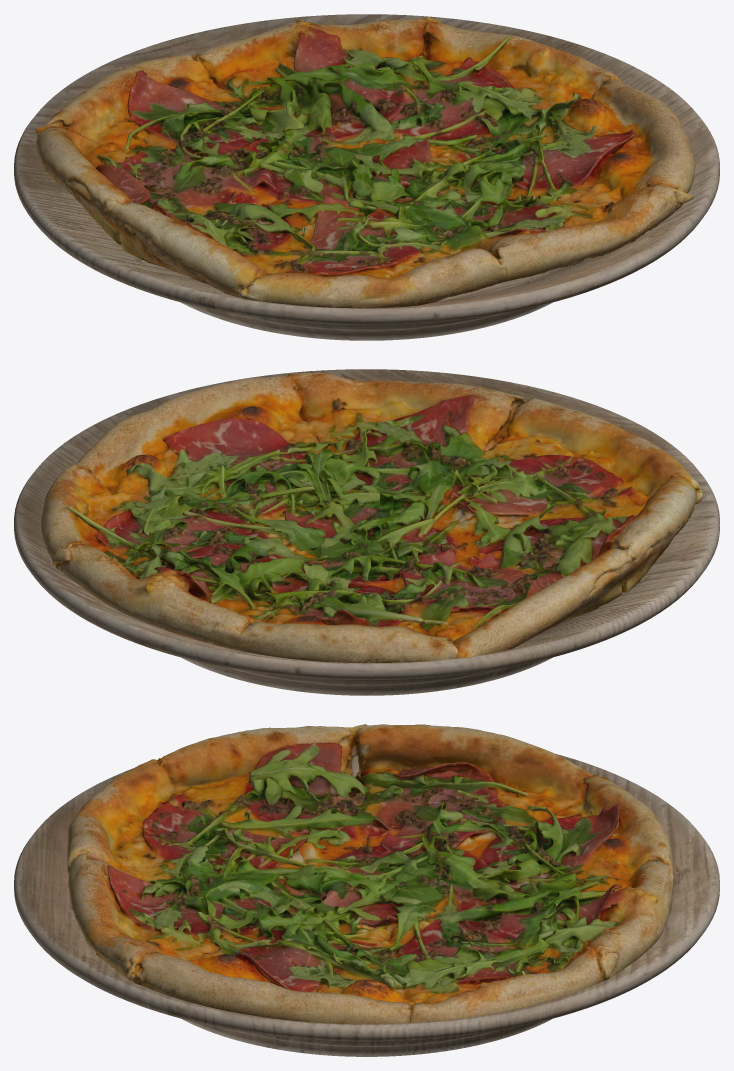
File: pizza.glb
3 views of the same model, one above another, from view 1: azimuth 30°, elevation 25°; view 2: azimuth 150°, elevation 25°; view 3: azimuth 270°, elevation 25° (orthographic).
Visible parts, largest first — view 1: pizza_pizza_0, Tarelka001__0; view 2: pizza_pizza_0, Tarelka001__0; view 3: pizza_pizza_0, Tarelka001__0.
Part boxes in pixels (x1,y1,x2,y2): pizza_pizza_0: [36, 16, 695, 308]; Tarelka001__0: [14, 14, 719, 340]; pizza_pizza_0: [41, 372, 703, 662]; Tarelka001__0: [14, 369, 719, 695]; pizza_pizza_0: [67, 724, 673, 1024]; Tarelka001__0: [14, 753, 719, 1056].
Size of the model in its own units: 0.3 by 0.0511 by 0.3.
2 materials, 2 textured.
